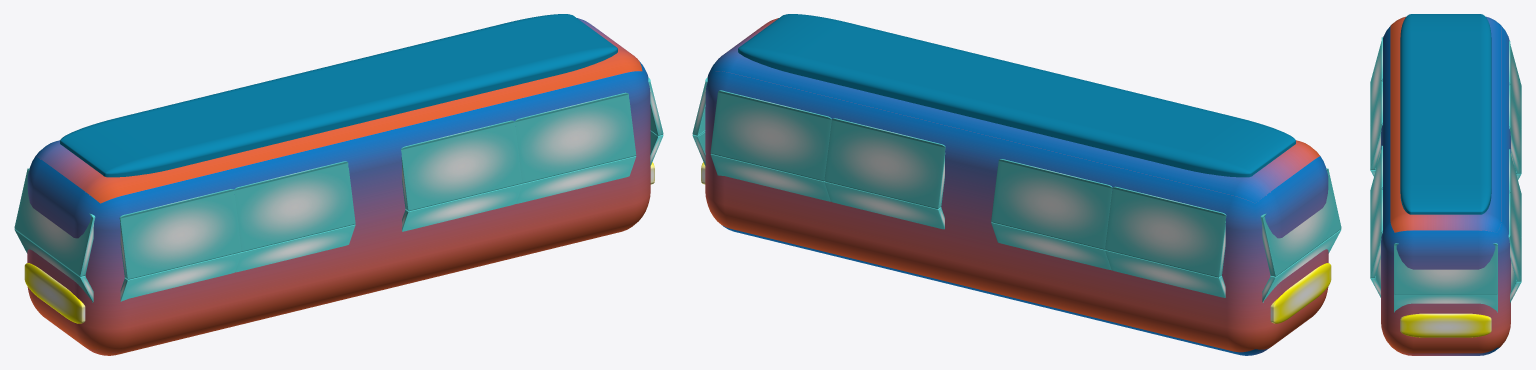
Rendered from Tram.fbx.
3 views of the same model, side by side, from view 1: azimuth 30°, elevation 25°; view 2: azimuth 150°, elevation 25°; view 3: azimuth 270°, elevation 25° (orthographic). The views are drawn at different scales.
Visible parts, largest first — view 1: Box, Box 4, Box 1.012, Box 1.010, Box 1.014, Box 1.016, Box 1.018, Box 1.013, Box 1.011, Box 1.017, Box 1.015, Box 3 (+1 smaller); view 2: Box, Box 4, Box 1.008, Box 1.006, Box 1.004, Box 1.002, Box 1.018, Box 1.009, Box 1.007, Box 1.005, Box 1.003, Box 3 (+1 smaller); view 3: Box, Box 4, Box 1, Box 2, Box 1.001, Box 1.004, Box 1.016, Box 1.002, Box 1.014, Box 1.006, Box 1.008, Box 1.010 (+3 smaller).
Part boxes in pixels (box(x1,y1,x2,y2)): Box: box(27, 18, 650, 355); Box 4: box(60, 14, 617, 177); Box 1.012: box(119, 189, 241, 279); Box 1.010: box(401, 120, 522, 211); Box 1.014: box(234, 161, 355, 251); Box 1.016: box(515, 92, 636, 183); Box 1.018: box(14, 168, 95, 276); Box 1.013: box(120, 252, 241, 301); Box 1.011: box(402, 184, 522, 231); Box 1.017: box(516, 156, 636, 203); Box 1.015: box(235, 224, 355, 272); Box 3: box(24, 263, 85, 323); Box: box(705, 18, 1328, 355); Box 4: box(738, 14, 1295, 177); Box 1.008: box(1105, 186, 1226, 277); Box 1.006: box(824, 118, 945, 208); Box 1.004: box(710, 90, 831, 181); Box 1.002: box(991, 159, 1112, 249); Box 1.018: box(1260, 168, 1341, 276); Box 1.009: box(1105, 250, 1225, 297); Box 1.007: box(824, 181, 944, 229); Box 1.005: box(710, 154, 830, 201); Box 1.003: box(991, 222, 1111, 270); Box 3: box(1270, 263, 1331, 323); Box: box(1381, 16, 1510, 355); Box 4: box(1400, 14, 1491, 214); Box 1: box(1394, 243, 1497, 294); Box 2: box(1400, 313, 1491, 337); Box 1.001: box(1394, 294, 1497, 312); Box 1.004: box(1508, 193, 1521, 281); Box 1.016: box(1370, 189, 1382, 278); Box 1.002: box(1509, 84, 1521, 173); Box 1.014: box(1370, 81, 1382, 169); Box 1.006: box(1509, 149, 1521, 236); Box 1.008: box(1509, 41, 1521, 128); Box 1.010: box(1370, 145, 1382, 233).
Size of the model in its own units: 1023 by 315 by 291.
24 materials, 23 textured.
